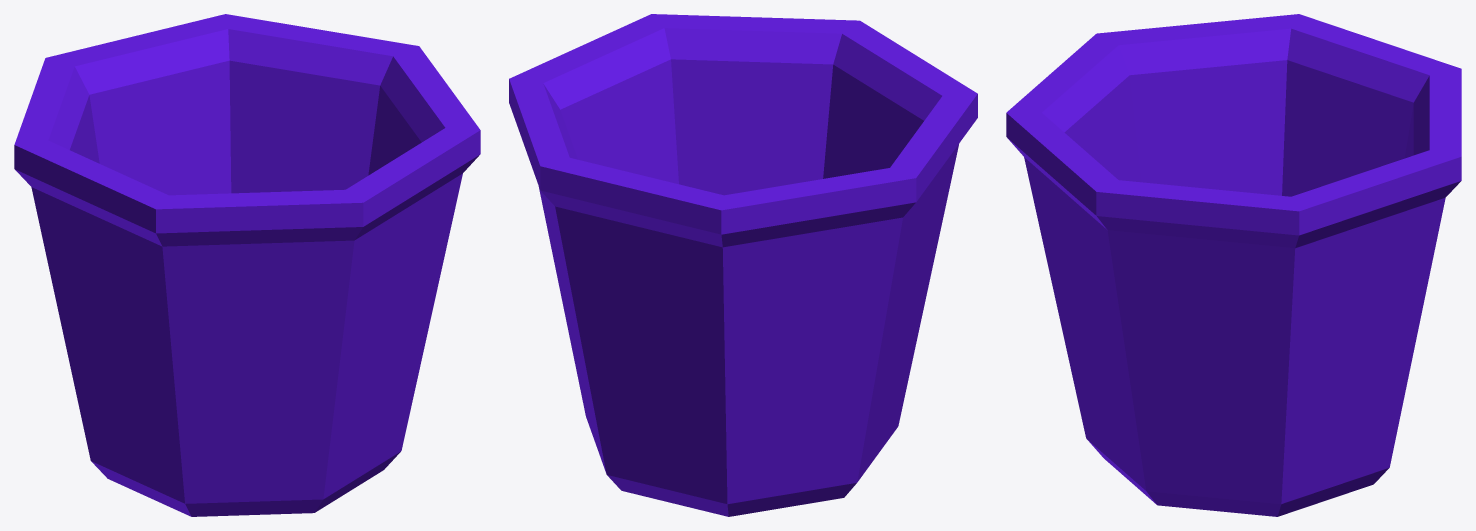
The model's file is maceta-geometrica.glb.
3 views of the same model, side by side, from view 1: azimuth 30°, elevation 25°; view 2: azimuth 150°, elevation 25°; view 3: azimuth 270°, elevation 25° (orthographic).
Visible parts, largest first — view 1: maceta-geometrica; view 2: maceta-geometrica; view 3: maceta-geometrica.
Part boxes in pixels (x1,y1,x2,y2): maceta-geometrica: (14,14,480,516); maceta-geometrica: (509,14,977,516); maceta-geometrica: (1006,14,1461,516).
Size of the model in its own units: 0.1579 by 0.129 by 0.154.
